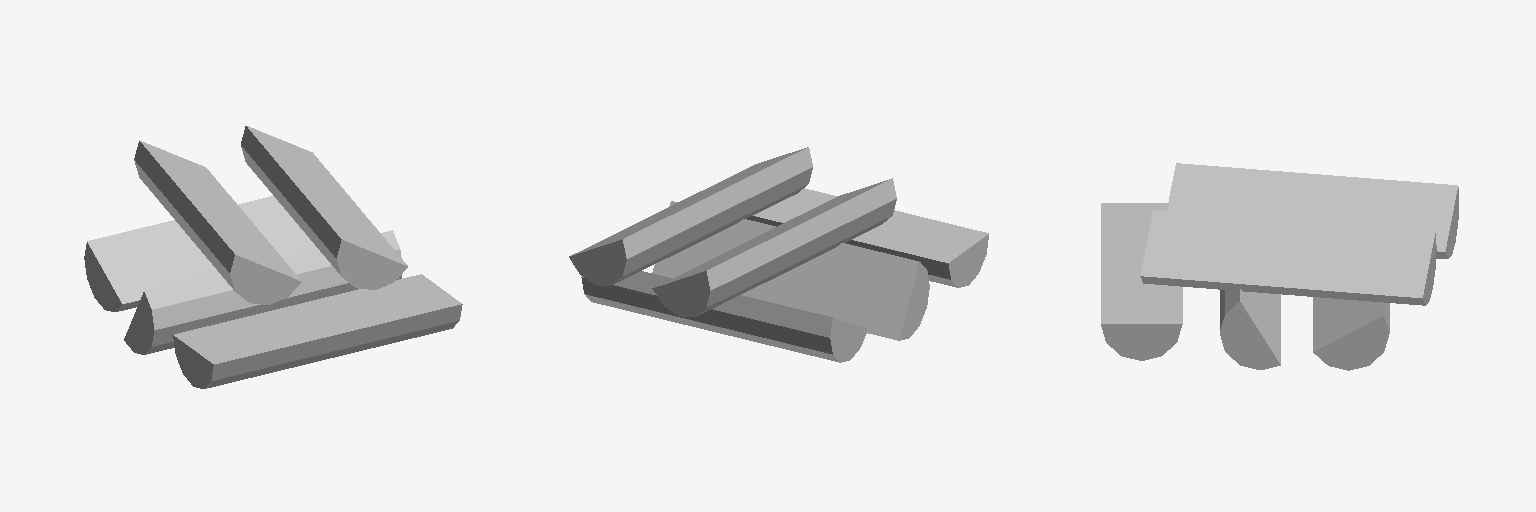
File: campfire.obj
3 renders of one model, left to right at view 1: azimuth 30°, elevation 25°; view 2: azimuth 150°, elevation 25°; view 3: azimuth 270°, elevation 25°, orthographic.
Parts seen in each view (by area): view 1: Gruppe_161_004, Gruppe_161_003, Gruppe_161_002, Gruppe_161_001, Gruppe_161_005; view 2: Gruppe_161_005, Gruppe_161_003, Gruppe_161_002, Gruppe_161_001, Gruppe_161_004; view 3: Gruppe_161_002, Gruppe_161_003, Gruppe_161_004, Gruppe_161_001, Gruppe_161_005.
Boxes of the visible parts, <box> form: Gruppe_161_004: <box>173,274,462,388</box>; Gruppe_161_003: <box>134,140,301,304</box>; Gruppe_161_002: <box>241,126,407,289</box>; Gruppe_161_001: <box>84,196,316,311</box>; Gruppe_161_005: <box>124,230,401,354</box>; Gruppe_161_005: <box>652,201,929,340</box>; Gruppe_161_003: <box>652,178,896,316</box>; Gruppe_161_002: <box>569,147,812,285</box>; Gruppe_161_001: <box>581,271,867,362</box>; Gruppe_161_004: <box>747,188,988,287</box>; Gruppe_161_002: <box>1140,209,1436,305</box>; Gruppe_161_003: <box>1167,163,1458,258</box>; Gruppe_161_004: <box>1101,203,1182,360</box>; Gruppe_161_001: <box>1313,297,1389,370</box>; Gruppe_161_005: <box>1220,289,1280,369</box>.
Size of the model in its own units: 445 by 185 by 525.